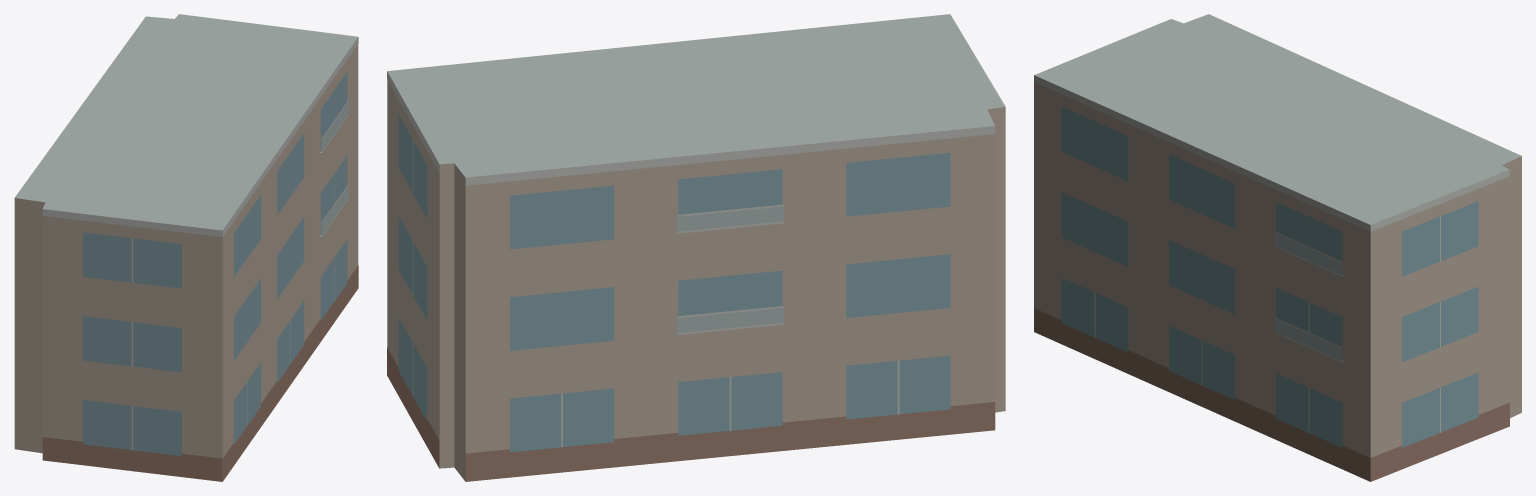
File: survey-upis-32717472.glb
The picture shows the model from 3 angles, left to right: view 1: azimuth 30°, elevation 25°; view 2: azimuth 150°, elevation 25°; view 3: azimuth 270°, elevation 25°; orthographic projection. The views are drawn at different scales.
Visible parts, largest first — view 1: survey-upis-32717472.tmp; view 2: survey-upis-32717472.tmp; view 3: survey-upis-32717472.tmp.
Part boxes in pixels (x1,y1,x2,y2): survey-upis-32717472.tmp: [14, 14, 358, 481]; survey-upis-32717472.tmp: [387, 14, 1005, 481]; survey-upis-32717472.tmp: [1034, 14, 1521, 481].
Bounding box in the file's own units: 16.13 × 9.15 × 15.75.
